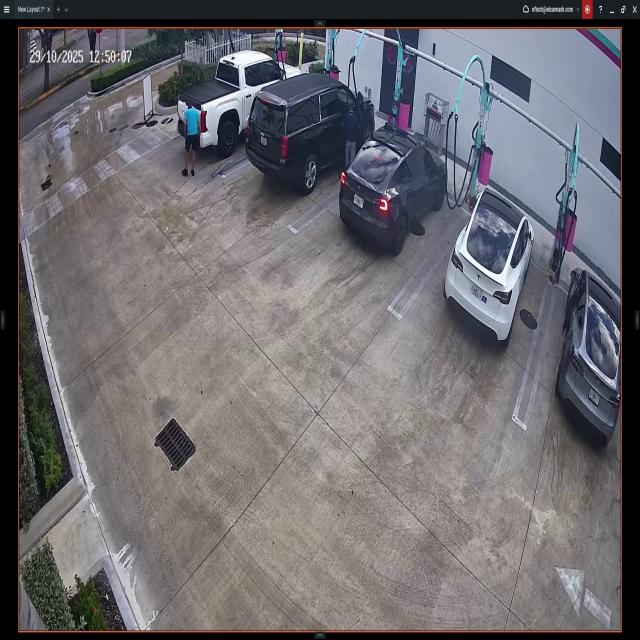Car: (246, 75, 374, 192), (444, 183, 534, 348), (339, 126, 446, 252), (179, 51, 306, 157), (558, 264, 620, 443)
